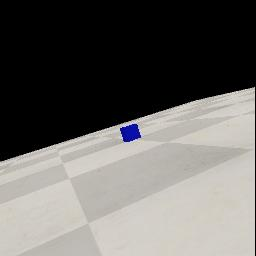box: (120, 124, 141, 142)
